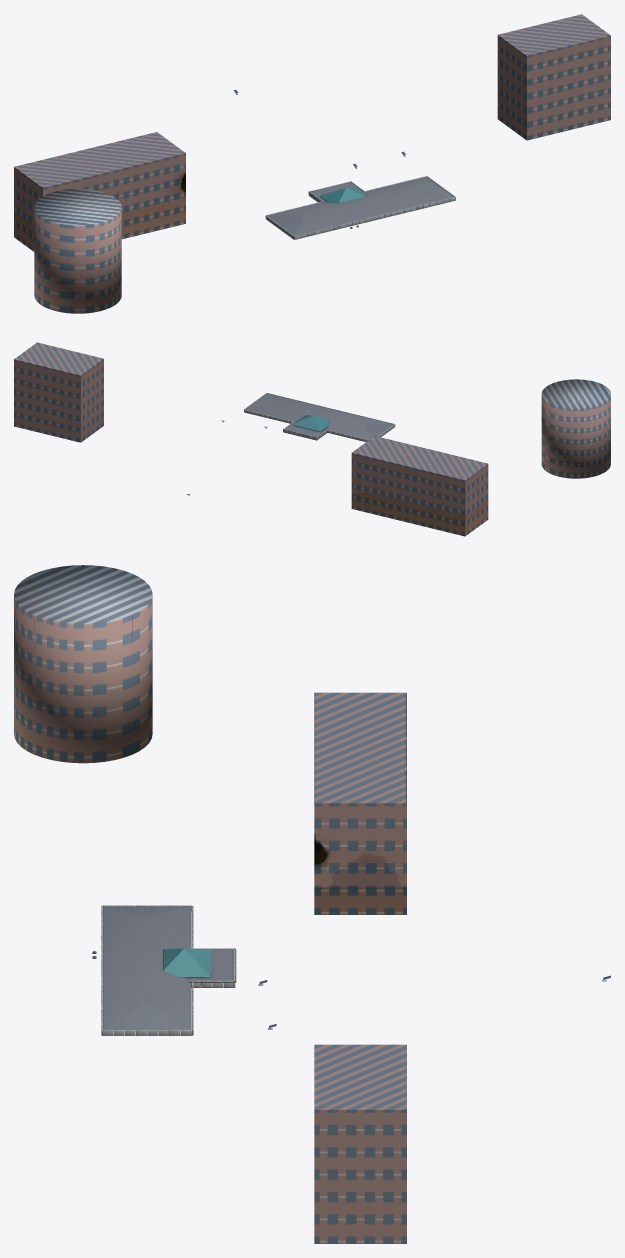
File: world_ext2.glb
3 renders of one model, top to bottom at view 1: azimuth 30°, elevation 25°; view 2: azimuth 150°, elevation 25°; view 3: azimuth 270°, elevation 25°, orthographic. The views are drawn at different scales.
Visible parts, largest first — view 1: W_ext2; view 2: W_ext2; view 3: W_ext2.
Boxes of the visible parts, box(x1,y1,x2,y2) form: W_ext2: box(14, 14, 610, 313); W_ext2: box(14, 342, 610, 536); W_ext2: box(14, 565, 610, 1243).
Bounding box in the file's own units: 153 × 25.88 × 77.5.
1 material, 1 textured.
